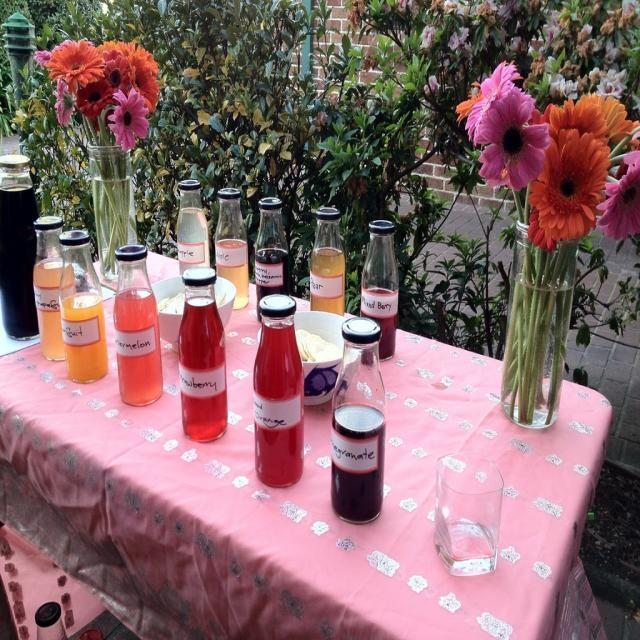Juice: (253, 322, 305, 490), (179, 296, 227, 445), (329, 405, 383, 526), (113, 283, 163, 408), (31, 260, 79, 364), (62, 291, 111, 381), (358, 286, 399, 361), (255, 246, 293, 318), (175, 206, 211, 280), (214, 235, 248, 309), (310, 248, 346, 316)
